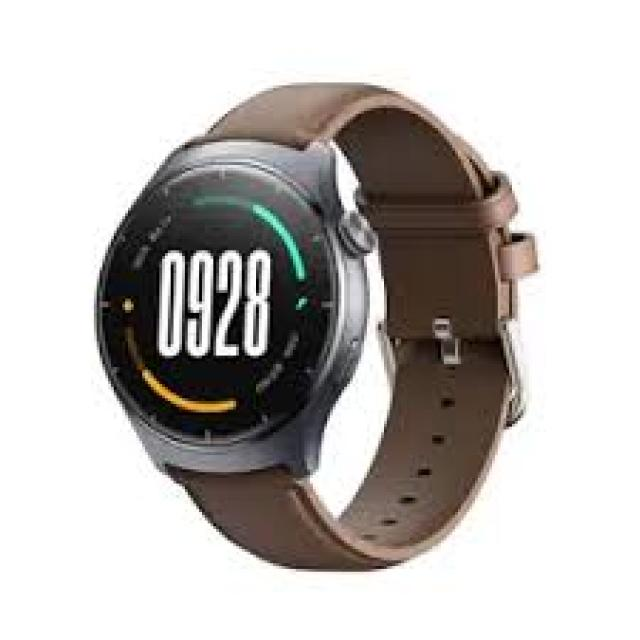objects: (94, 85, 535, 575)
